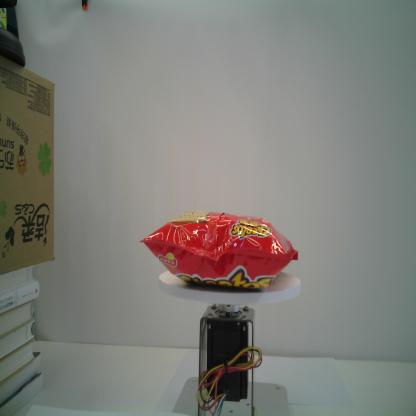Puffed Food: (140, 209, 298, 291)
